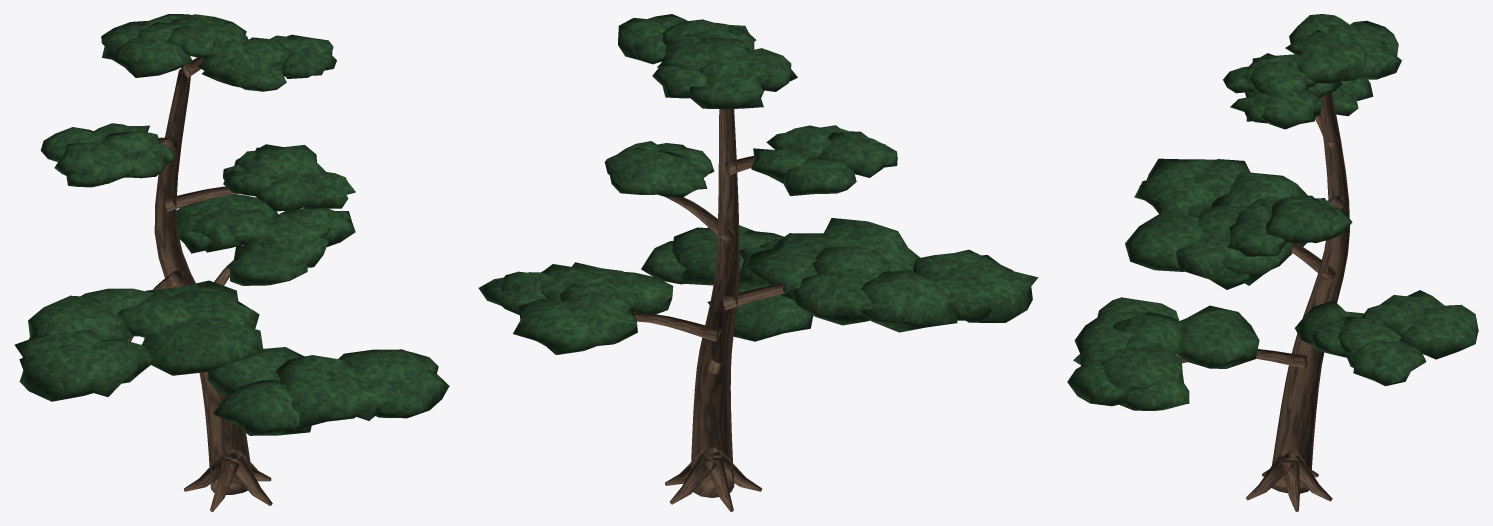
The model's file is pine_tree.glb.
3 renders of one model, left to right at view 1: azimuth 30°, elevation 25°; view 2: azimuth 150°, elevation 25°; view 3: azimuth 270°, elevation 25°, orthographic. The views are drawn at different scales.
Visible parts, largest first — view 1: PineNeedles, PineTrunk; view 2: PineNeedles, PineTrunk; view 3: PineNeedles, PineTrunk.
Boxes of the visible parts, <box> form: PineNeedles: <box>14,14,449,435</box>; PineTrunk: <box>126,57,272,511</box>; PineNeedles: <box>478,14,1038,354</box>; PineTrunk: <box>634,109,788,511</box>; PineNeedles: <box>1067,14,1478,410</box>; PineTrunk: <box>1181,93,1349,511</box>.
Size of what is drawn, in the model's own units: 8.2 by 8.38 by 7.05.
2 materials, 2 textured.
